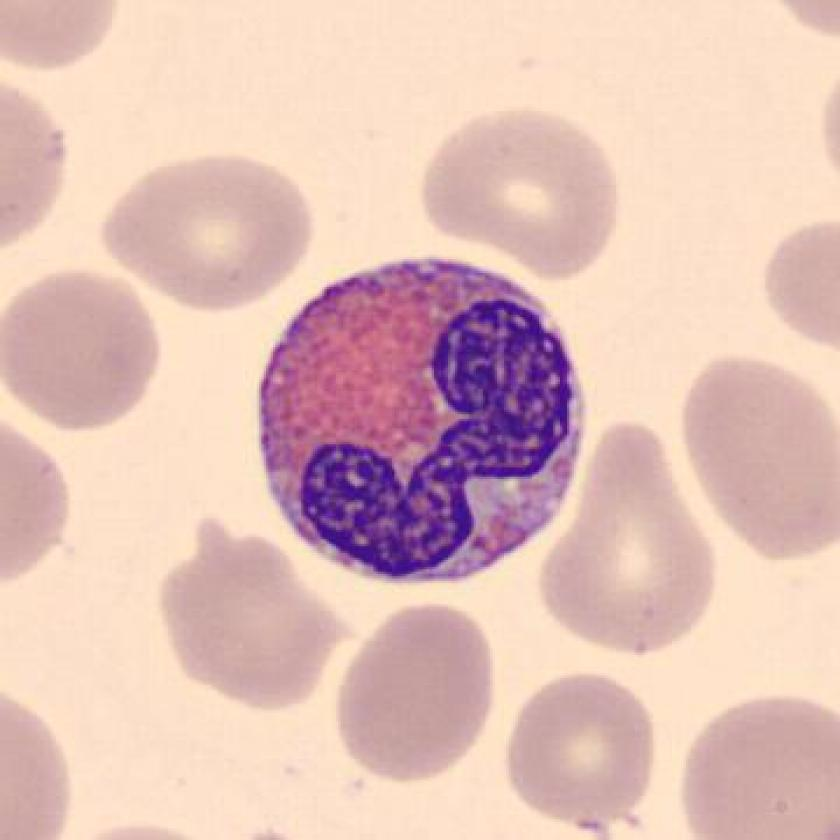eosinophil: (241, 242, 601, 600)
